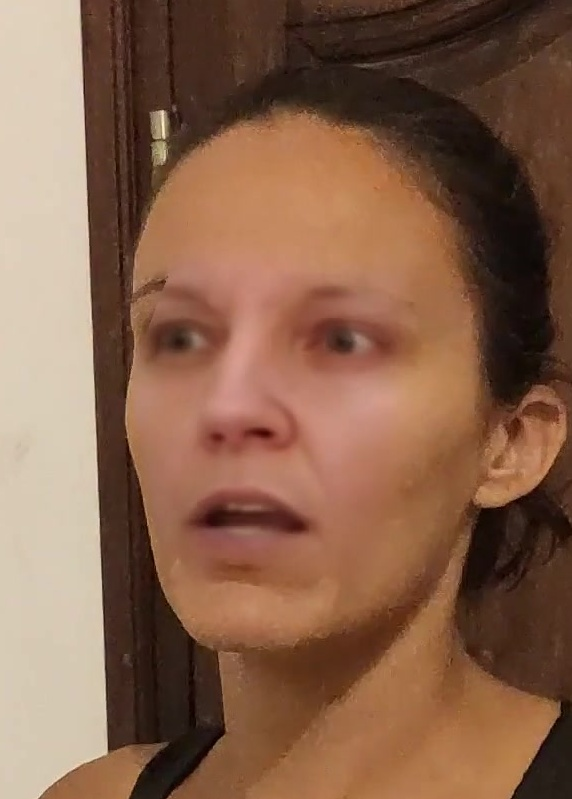eb_f: (125, 260, 427, 381)
